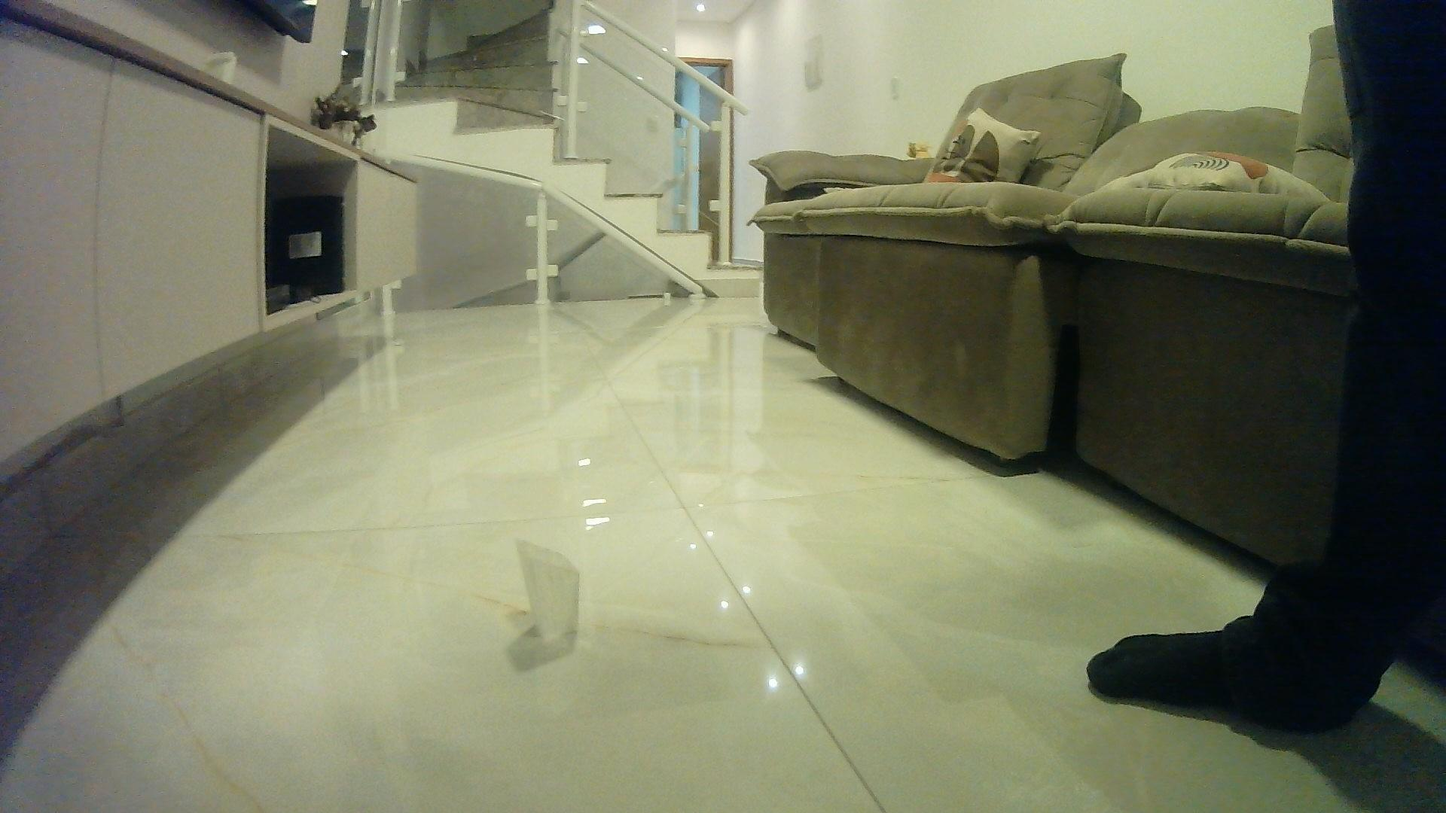vaso_redondo: (511, 534, 589, 646)
